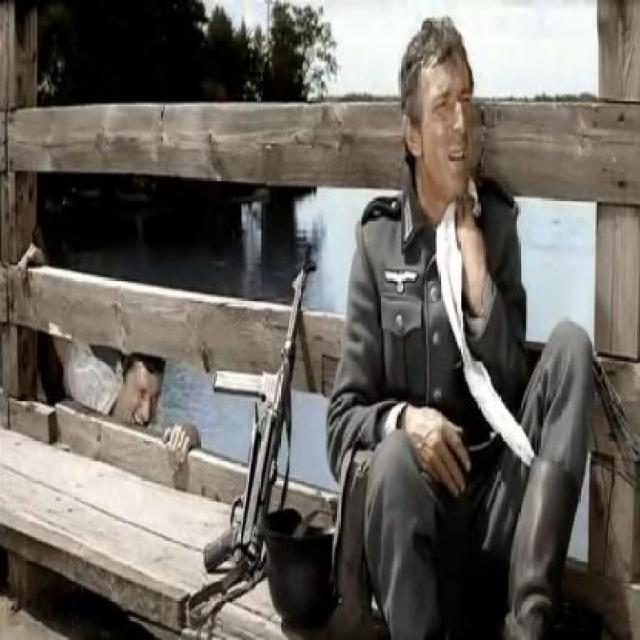guns: (201, 219, 339, 584)
